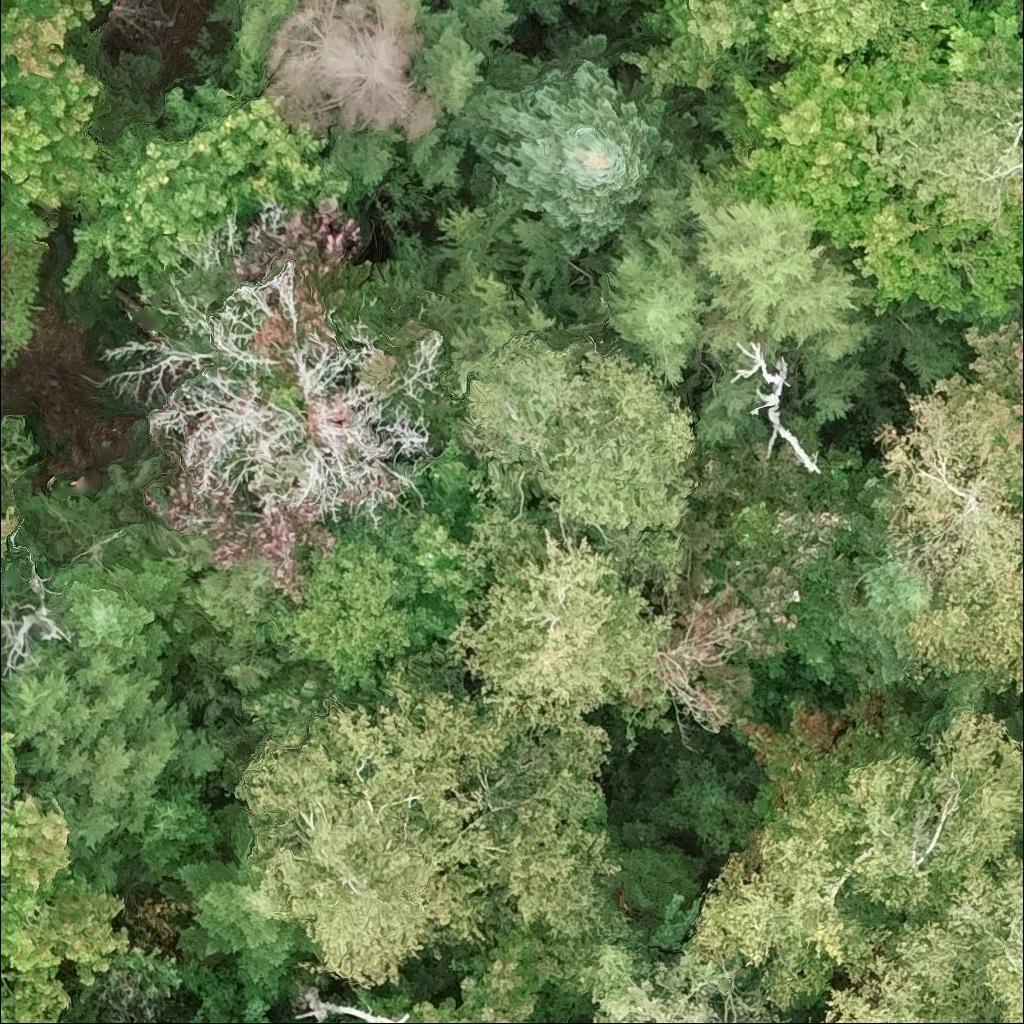crown: (233, 643, 625, 989), (692, 712, 1023, 1023), (594, 163, 882, 447), (60, 44, 351, 299), (647, 431, 867, 731), (461, 327, 702, 595), (447, 457, 676, 734), (0, 639, 230, 894), (448, 30, 695, 260), (719, 27, 950, 245), (877, 375, 1023, 701), (328, 0, 522, 199), (271, 507, 461, 708), (0, 731, 127, 1023), (159, 790, 318, 1002), (546, 905, 793, 1023), (0, 0, 114, 235), (844, 176, 1023, 323), (893, 36, 1023, 237), (259, 0, 440, 142), (830, 509, 964, 695), (408, 901, 565, 1023), (50, 556, 198, 680), (618, 0, 770, 95), (760, 0, 973, 65), (726, 337, 823, 477), (948, 320, 1023, 461), (407, 511, 488, 616), (205, 0, 298, 65), (289, 984, 416, 1023), (0, 493, 19, 579), (1006, 699, 1023, 740), (329, 1017, 366, 1023), (1021, 3, 1023, 24)
